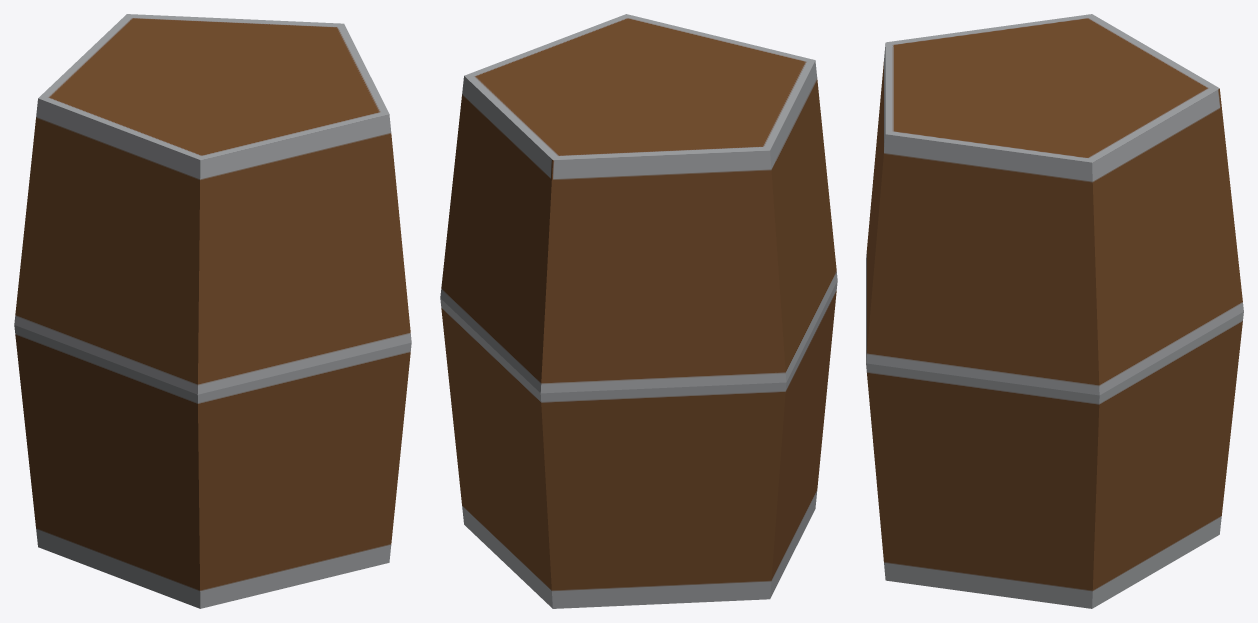
Rendered from barrel.fbx.
The picture shows the model from 3 angles, left to right: view 1: azimuth 30°, elevation 25°; view 2: azimuth 150°, elevation 25°; view 3: azimuth 270°, elevation 25°; orthographic projection.
Visible parts, largest first — view 1: barrel; view 2: barrel; view 3: barrel.
Part boxes in pixels (x1,y1,x2,y2): barrel: (14, 14, 411, 608); barrel: (440, 14, 837, 608); barrel: (866, 14, 1243, 608).
Size of the model in its own units: 80.67 by 100 by 76.73.
